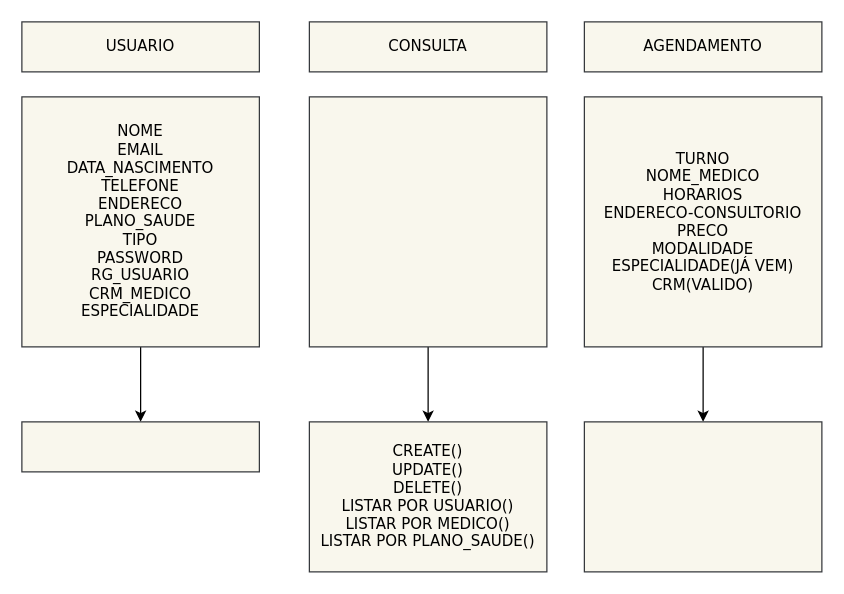
The diagram is 844 pixels wide and 594 high, and some of its shapes have lost their labels. Each missing label, with the centre of its shape:
"CREATE()" goes at (140,446).
"ID_MEDICO ID_AGENDAMENTO ID_USUARIO DATA STATUS OBSERVACOES" goes at (427,221).
"REAGENDAMENTO() DELETE() CREATE() UPDATE()" goes at (702,496).
